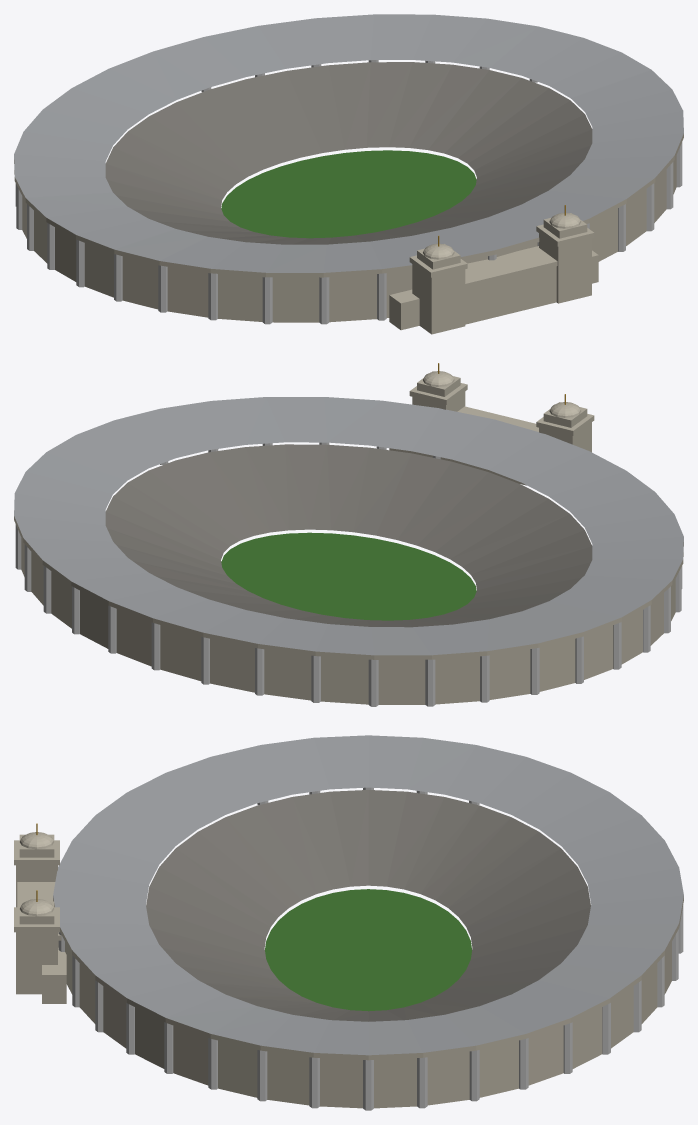
Rendered from wembley_old.glb.
3 renders of one model, top to bottom at view 1: azimuth 30°, elevation 25°; view 2: azimuth 150°, elevation 25°; view 3: azimuth 270°, elevation 25°, orthographic. The views are drawn at different scales.
Parts seen in each view (by area): view 1: wembley_old; view 2: wembley_old; view 3: wembley_old.
Part boxes in pixels (bbox=[...]): wembley_old: bbox=[14, 14, 683, 334]; wembley_old: bbox=[14, 363, 683, 706]; wembley_old: bbox=[14, 735, 683, 1110].
Bounding box in the file's own units: 306 × 42.2 × 271.
